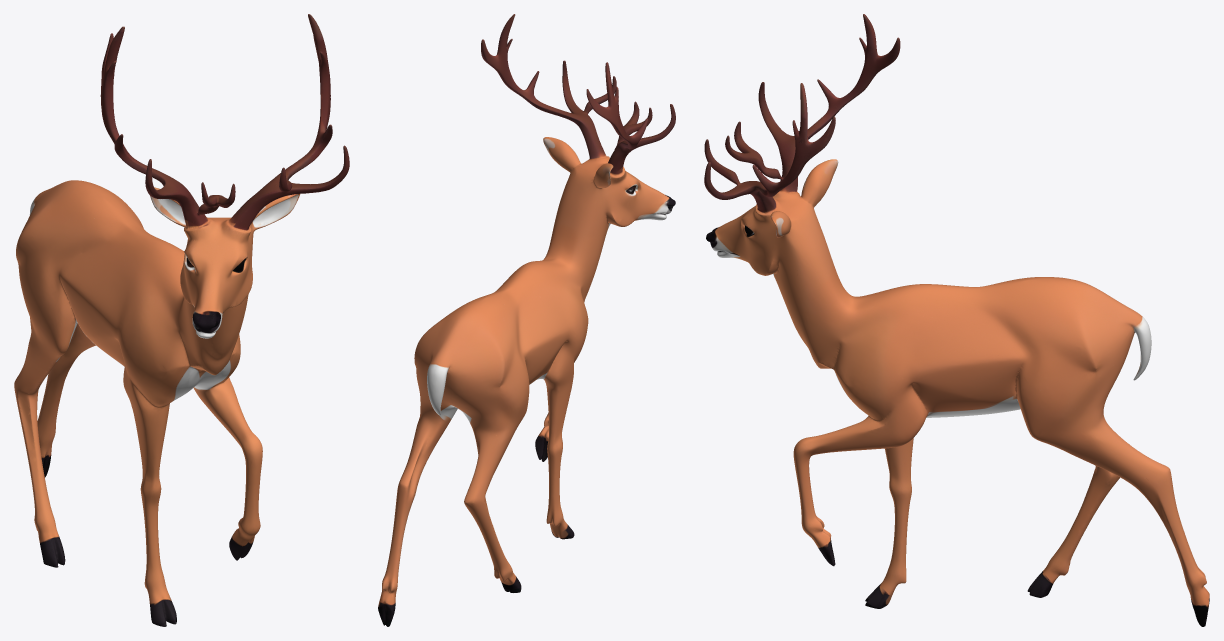
The model's file is walk.glb.
3 views of the same model, side by side, from view 1: azimuth 30°, elevation 25°; view 2: azimuth 150°, elevation 25°; view 3: azimuth 270°, elevation 25° (orthographic). The views are drawn at different scales.
Size of the model in its own units: 0.6888 by 1.9 by 1.53.
Materials: 1 (1 with a texture image).
